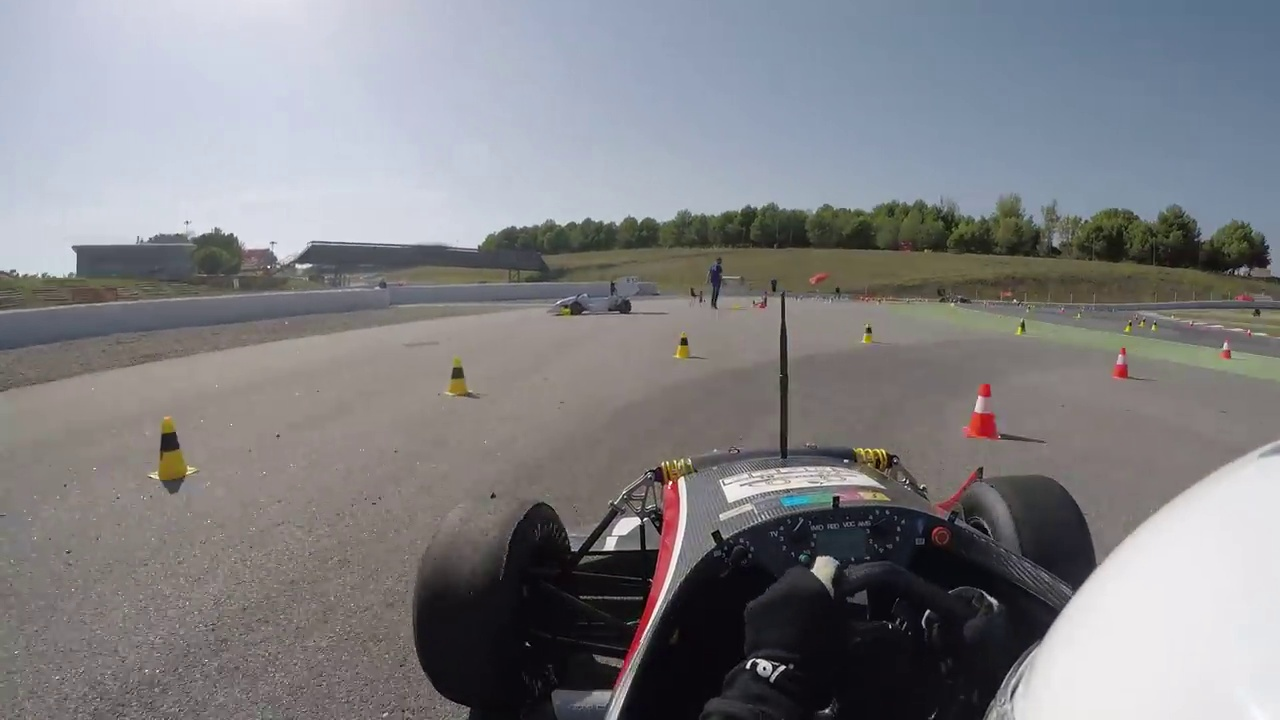Cone: (149, 416, 194, 480), (962, 381, 1004, 436), (447, 357, 473, 398), (1112, 348, 1134, 379), (675, 329, 694, 359)
